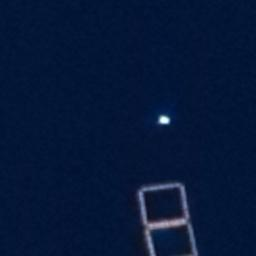square_solid: (132, 178, 194, 231), (140, 217, 202, 256)
